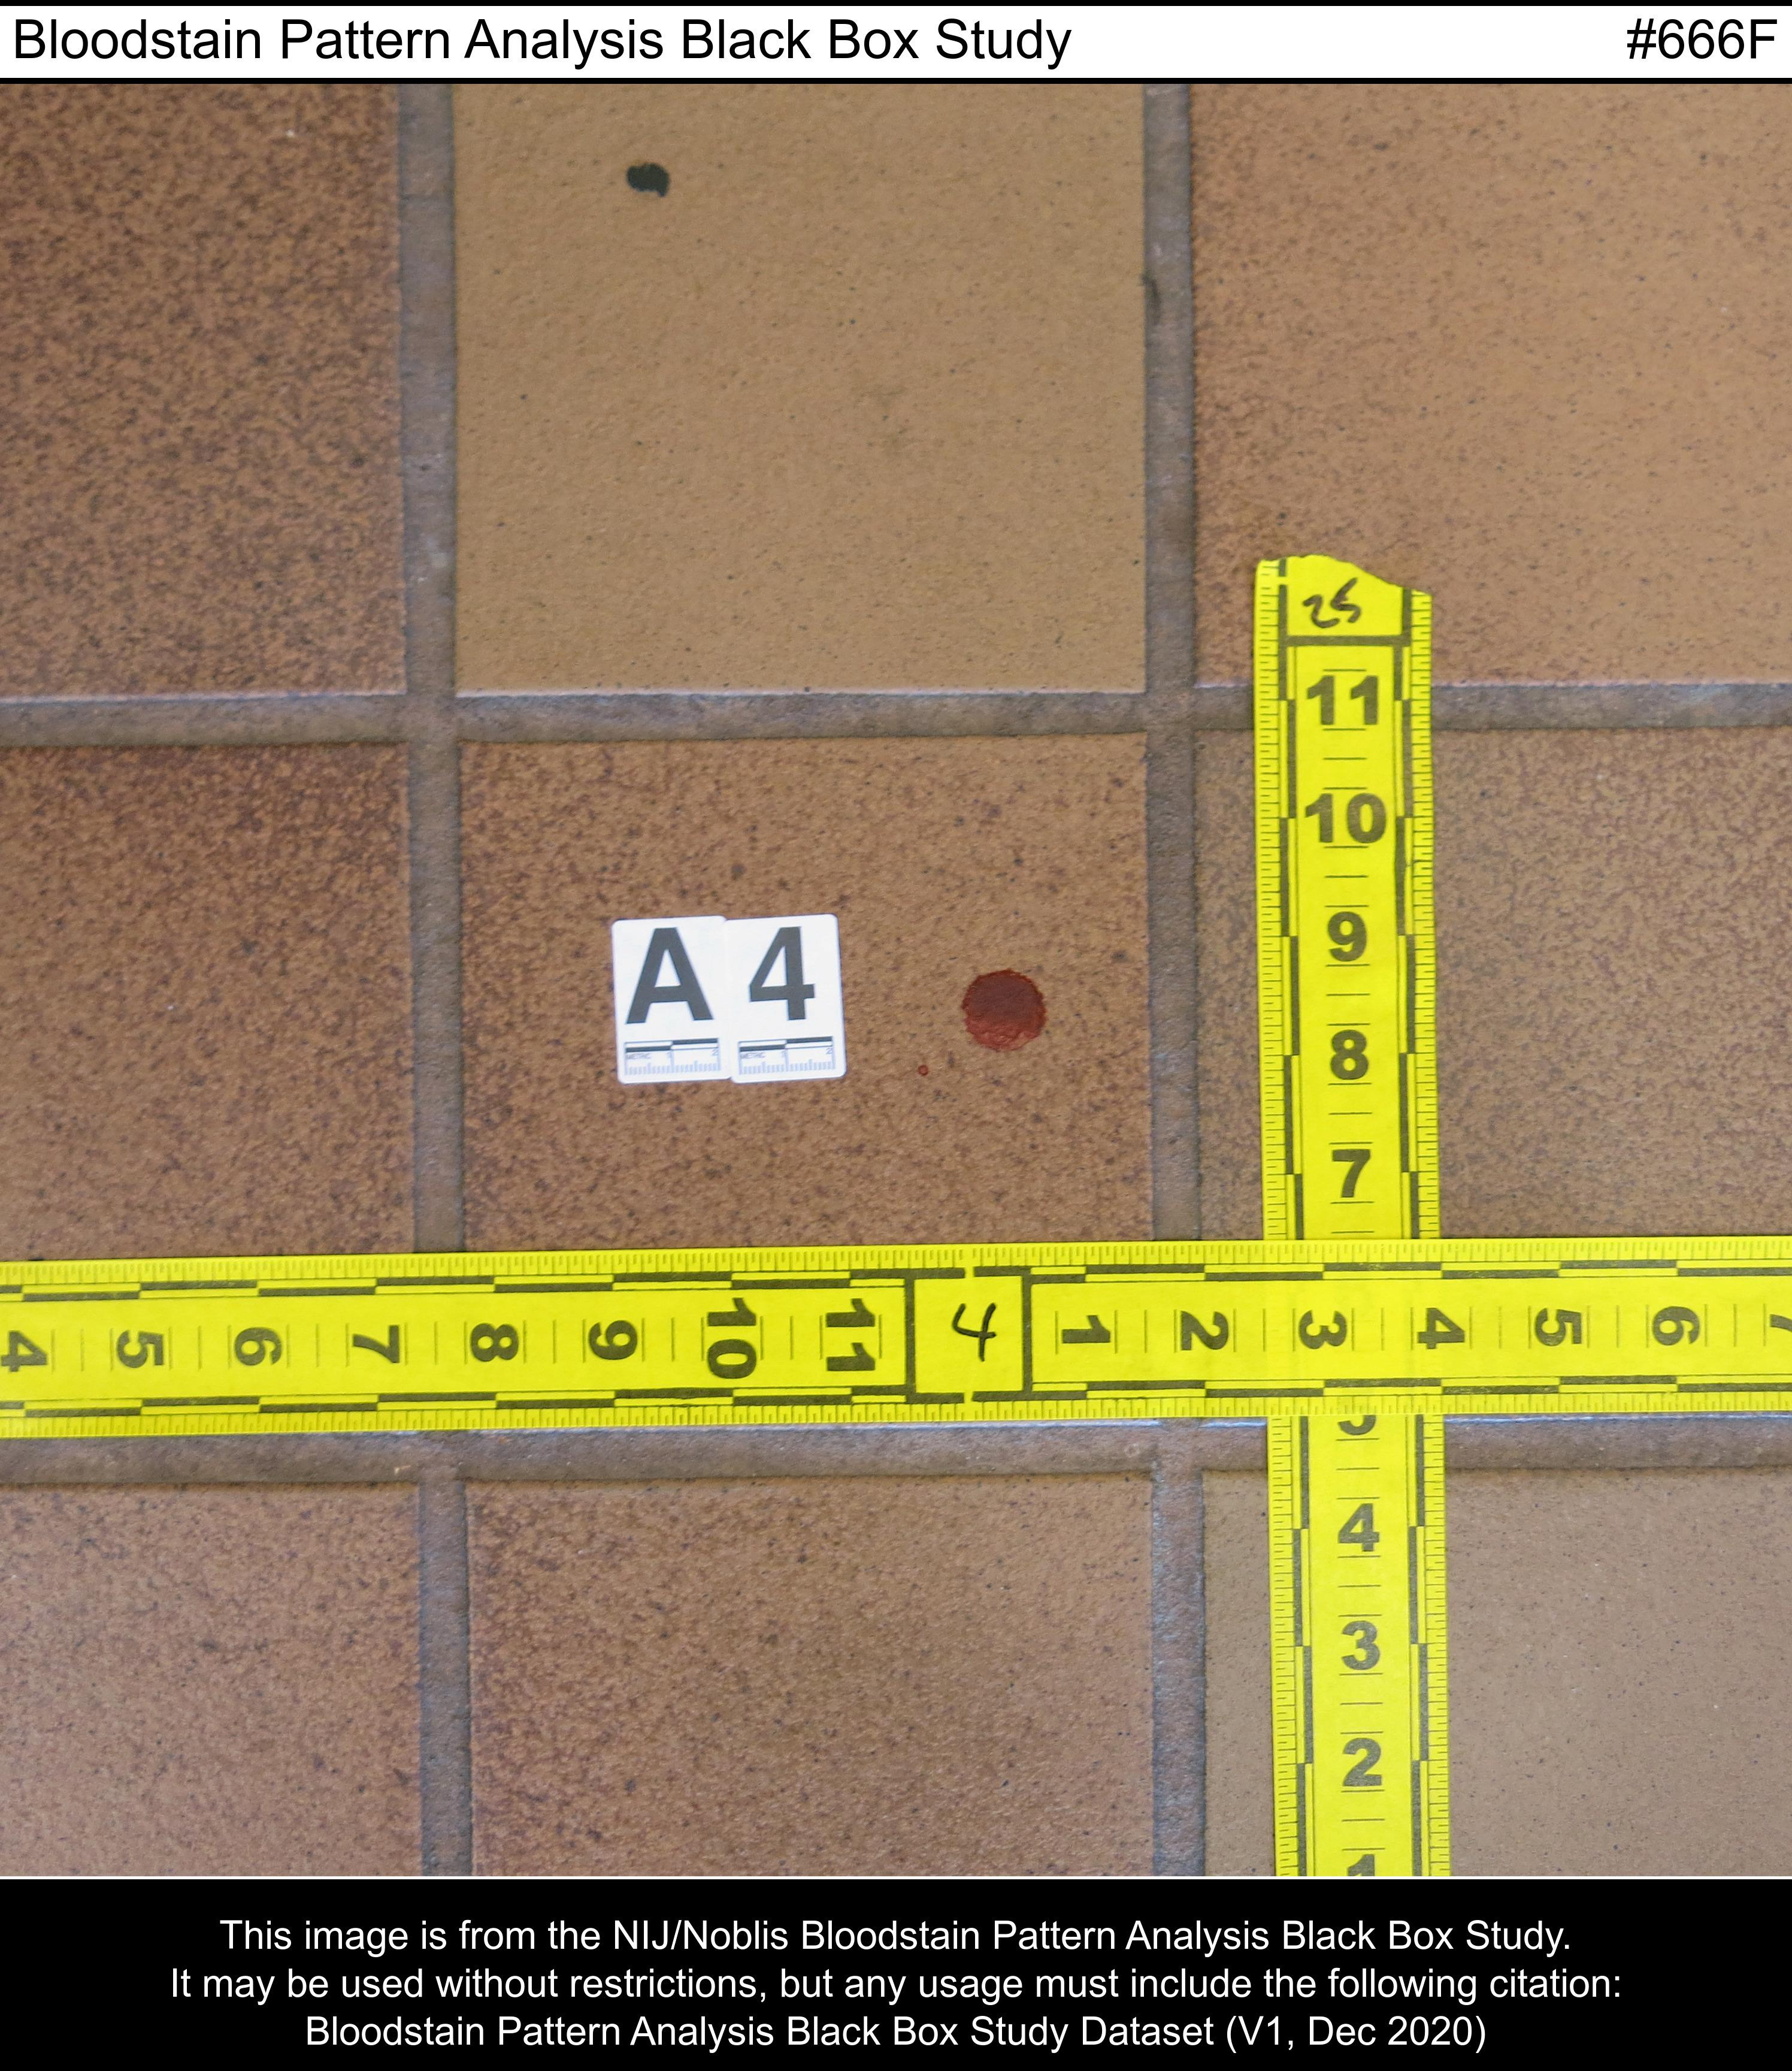Passive: (944, 958, 1072, 1069)
